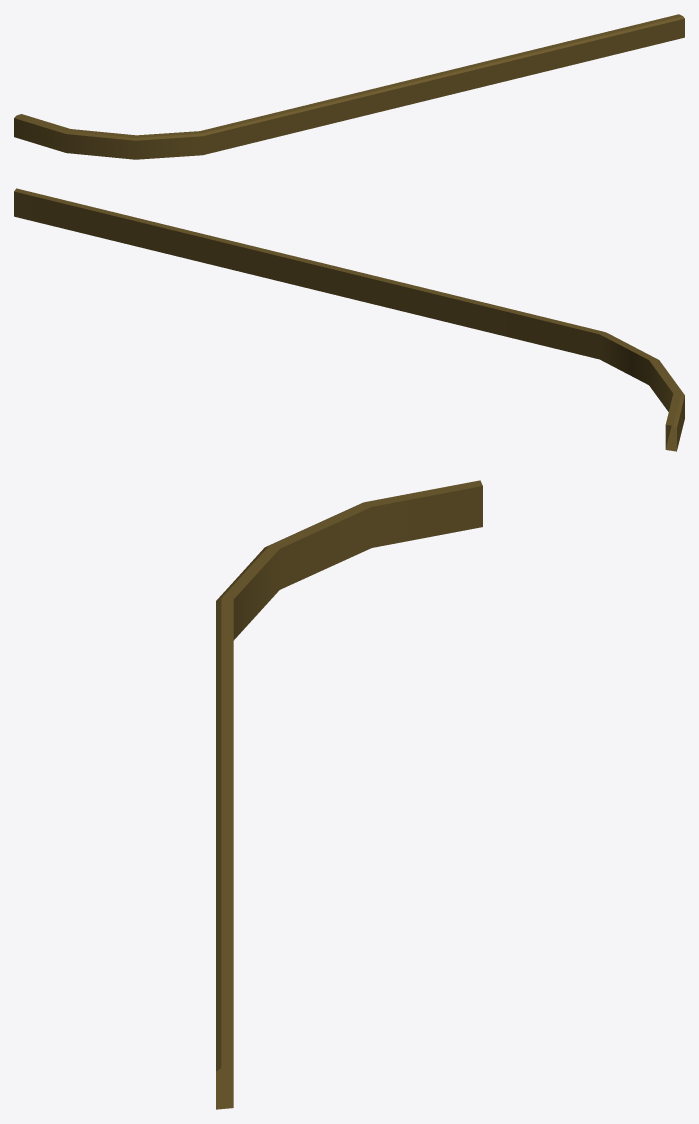
The model's file is plane_interior_golden_bar.dae.
3 renders of one model, top to bottom at view 1: azimuth 30°, elevation 25°; view 2: azimuth 150°, elevation 25°; view 3: azimuth 270°, elevation 25°, orthographic. The views are drawn at different scales.
Visible parts, largest first — view 1: plane_interior_golden_bar; view 2: plane_interior_golden_bar; view 3: plane_interior_golden_bar.
Part boxes in pixels (left/top/right/bottom): plane_interior_golden_bar: left=14, top=14, right=684, bottom=159; plane_interior_golden_bar: left=14, top=188, right=684, bottom=451; plane_interior_golden_bar: left=216, top=480, right=482, bottom=1109.
Size of the model in its own units: 58.54 by 1.9 by 11.18.
